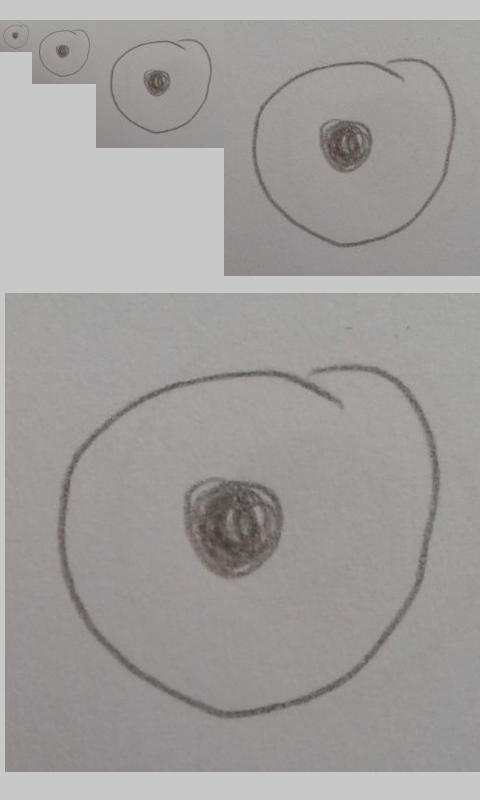radio_button: (52, 361, 440, 722), (251, 56, 457, 249), (109, 37, 215, 135), (37, 28, 92, 78), (2, 23, 30, 49)
